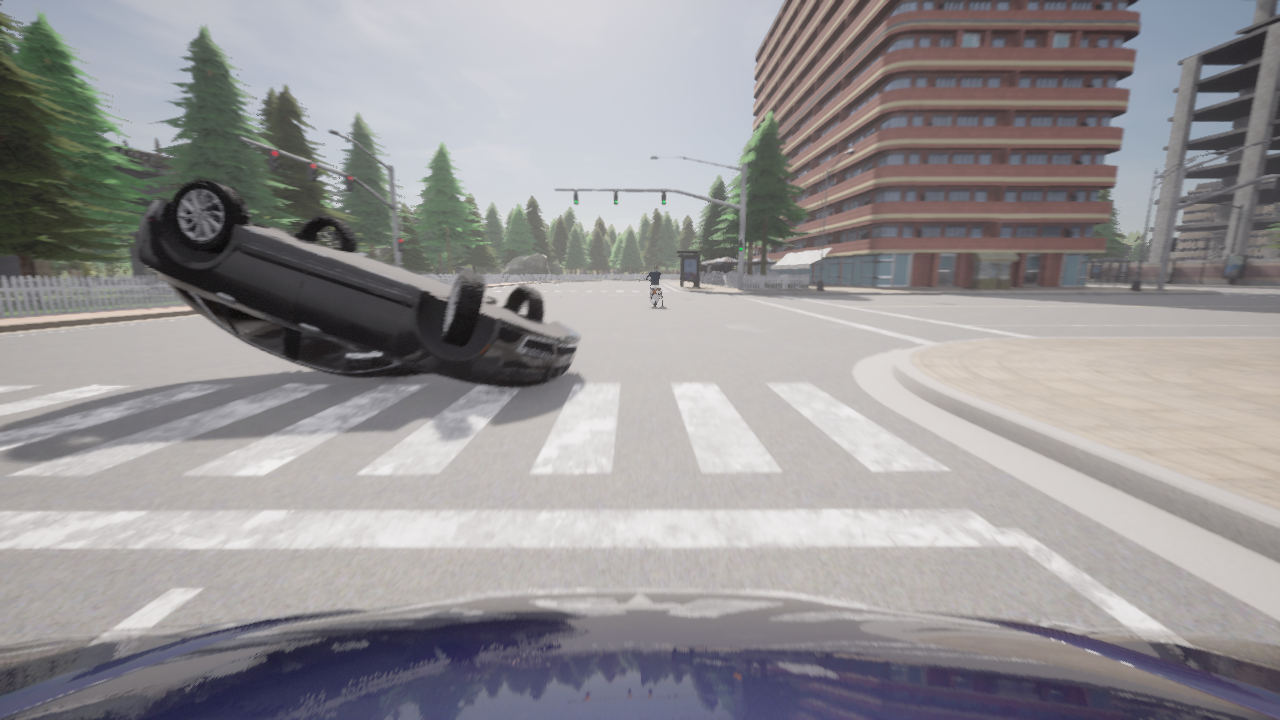cyclist: (0, 588, 1279, 719), (135, 180, 581, 386), (650, 285, 660, 307)
